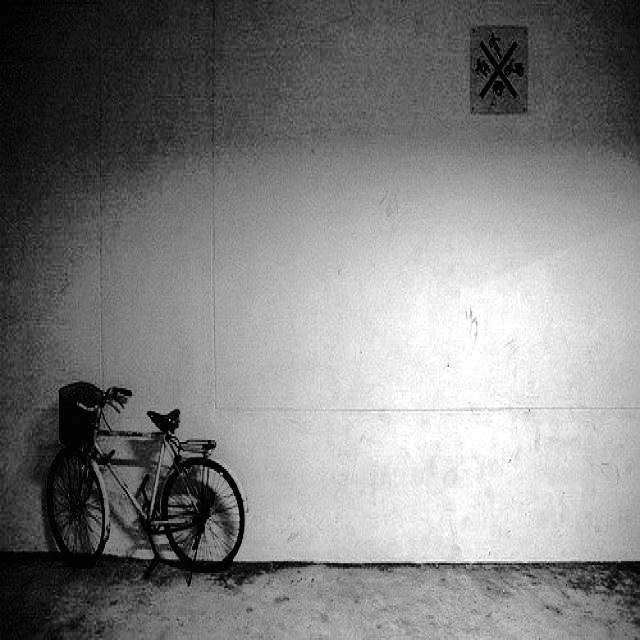Bicycle: (37, 326, 264, 630)
